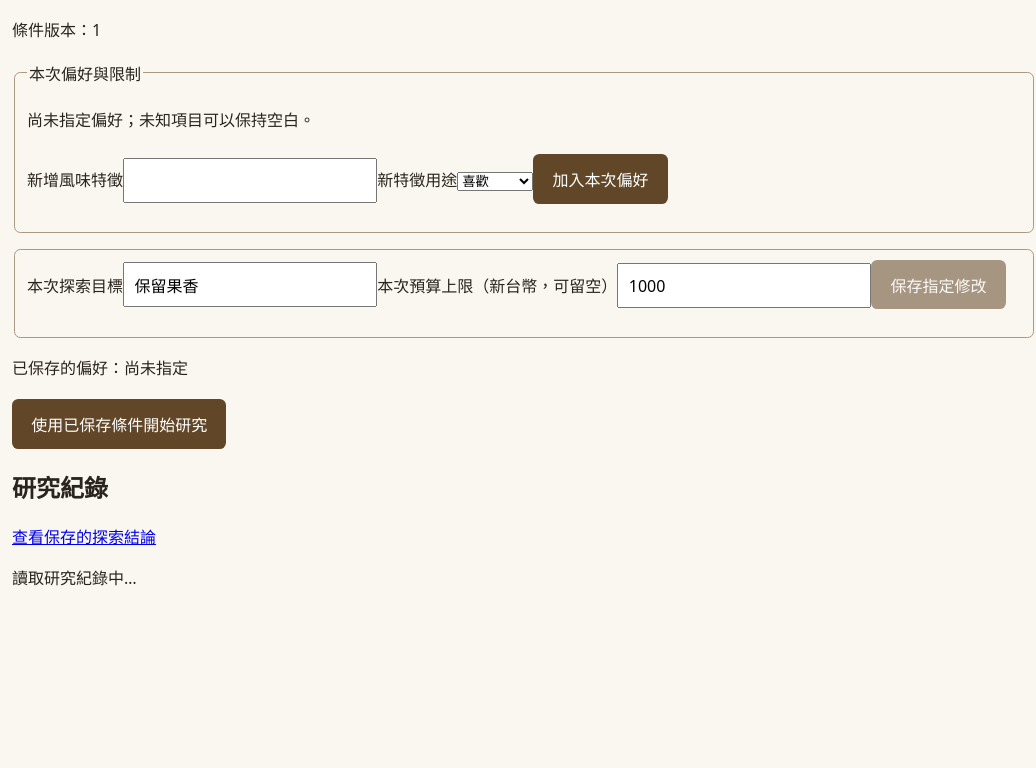
Test: definite 409 rejection offers a fresh plan without replaying the refused attempt
Replace the text in the number field labelled "本次預算上限（新台幣，可留空）" with "900". click: (744, 286)
box: x1=617 y1=263 x2=871 y2=308
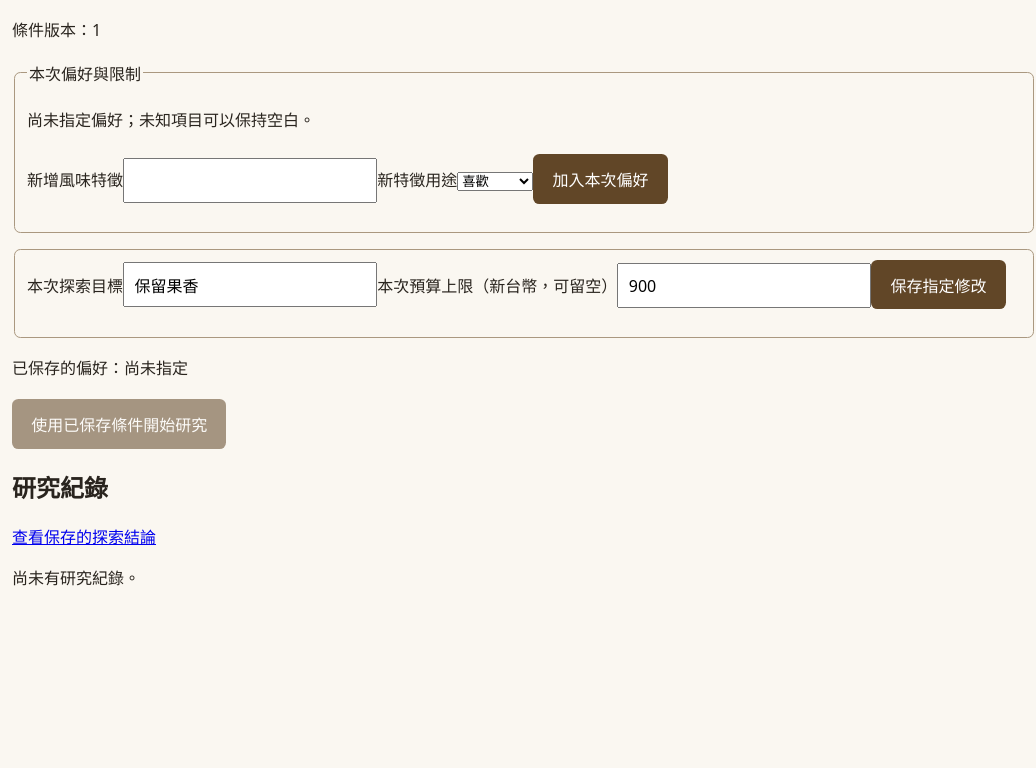
Click the button "保存指定修改". click: (939, 284)
box: x1=871 y1=260 x2=1006 y2=309
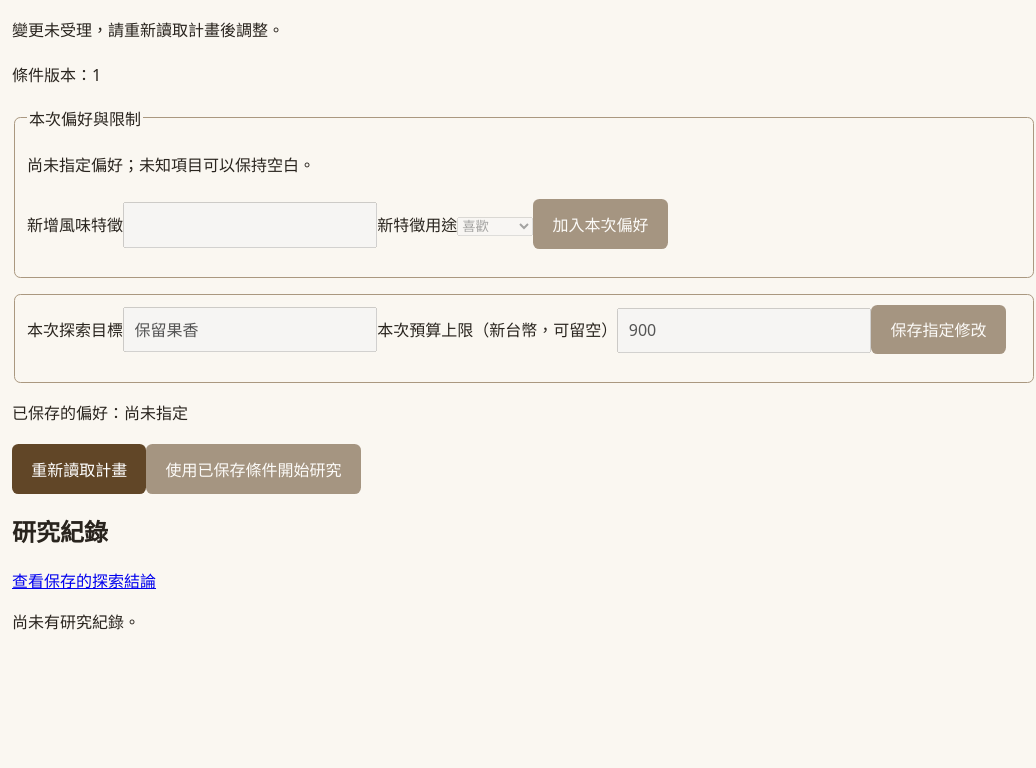
expect the message shows "變更未受理": met, box x1=12 y1=19 x2=284 y2=41
Click the button "重新讀取計畫". click: (79, 469)
box: x1=12 y1=444 x2=146 y2=494
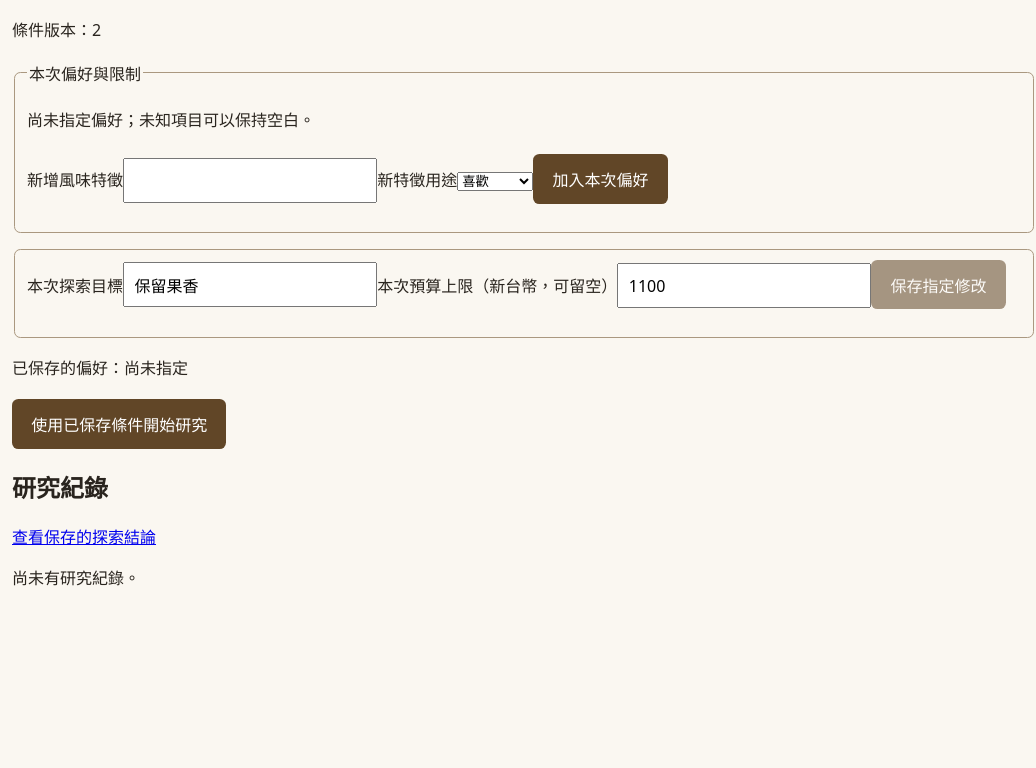
expect the text "條件版本：2" is shown: met, box x1=12 y1=19 x2=101 y2=41
expect the number field showing "1100" is shown: met, box x1=617 y1=263 x2=871 y2=308
expect the button "使用已保存條件開始研究" is enabled: met, box x1=12 y1=399 x2=226 y2=449
